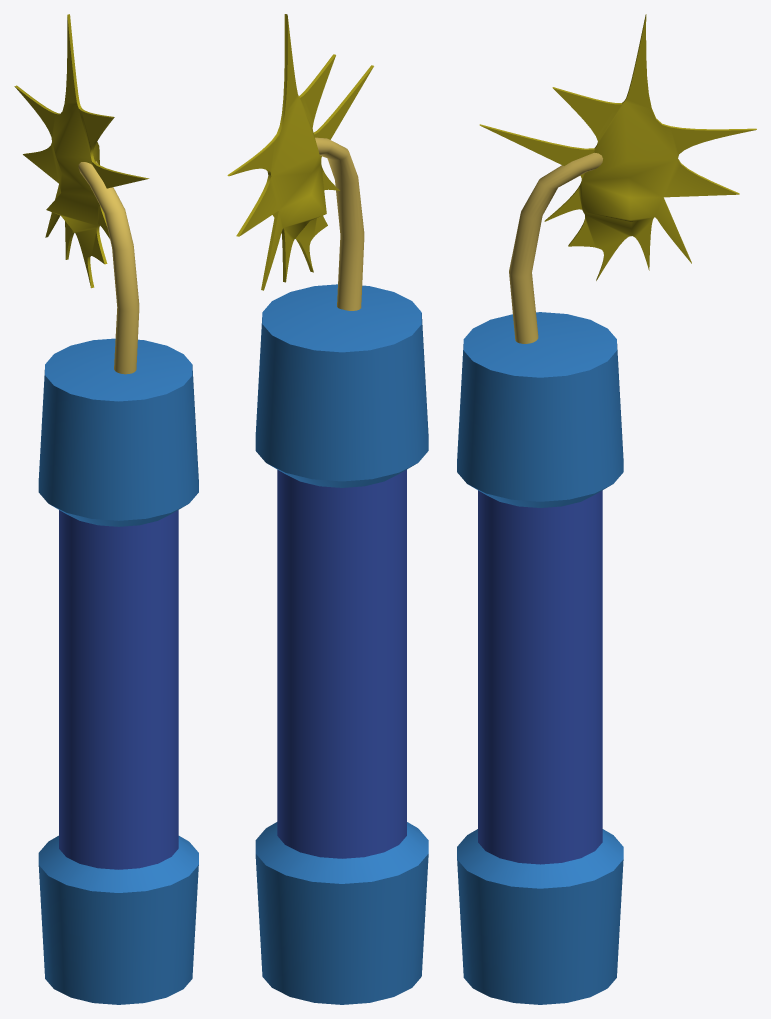
3 views of the same model, side by side, from view 1: azimuth 30°, elevation 25°; view 2: azimuth 150°, elevation 25°; view 3: azimuth 270°, elevation 25° (orthographic). The views are drawn at different scales.
Parts seen in each view (by area): view 1: Cylinder001, 对象001, Line002, Cylinder002; view 2: Cylinder001, 对象001, Line002, Cylinder002; view 3: Cylinder001, 对象001, Line002, Cylinder002.
Part boxes in pixels (x1,y1,x2,y2): Cylinder001: (38,338,198,1004); 对象001: (59,510,178,869); Line002: (14,14,149,288); Cylinder002: (78,161,139,374); Cylinder001: (255,284,428,1004); 对象001: (277,469,406,858); Line002: (227,14,373,290); Cylinder002: (315,137,364,310); Cylinder001: (457,312,623,1004); 对象001: (478,490,602,864); Line002: (479,14,756,280); Cylinder002: (509,152,602,343).
Bounding box in the file's own units: 48.46 × 306 × 85.93.
